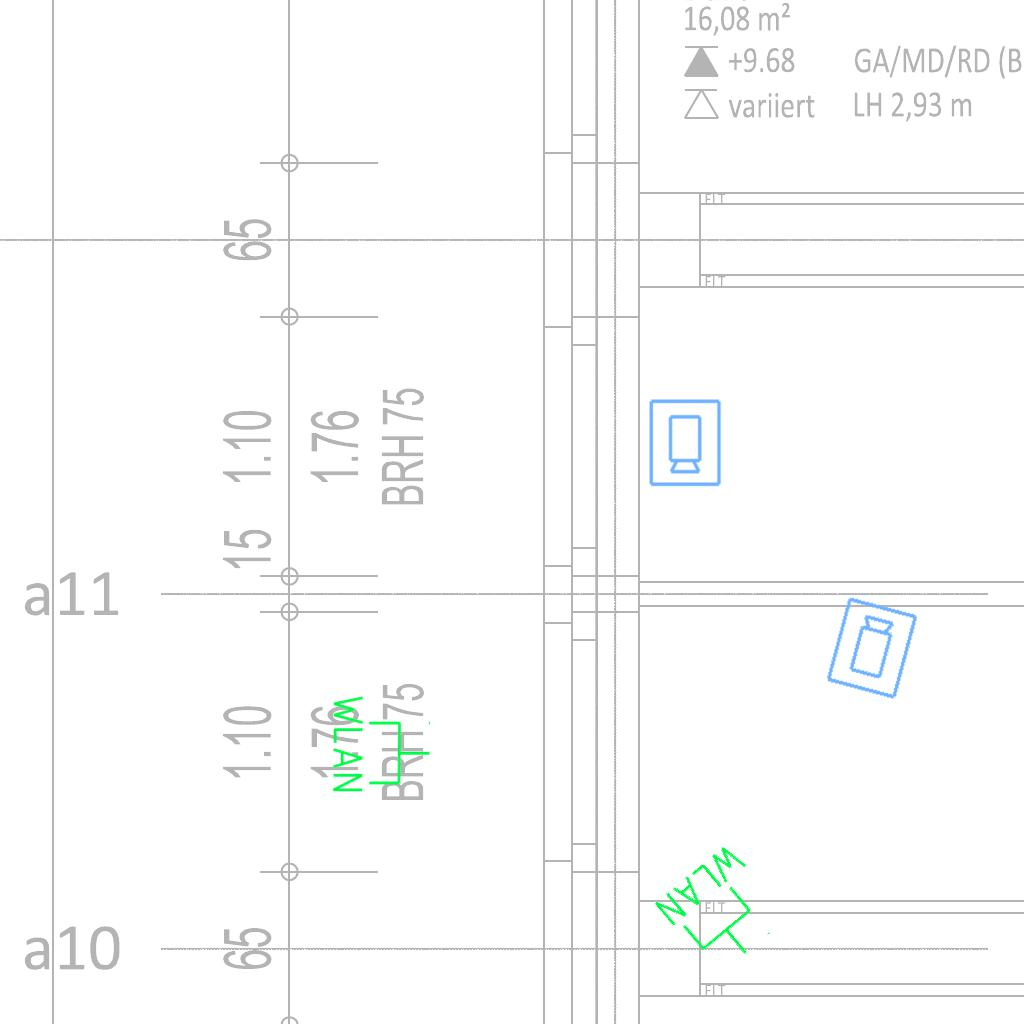KFO_Kamera_mit_Festobjektiv: (823, 594, 922, 703), (646, 397, 723, 488)
WLAN: (648, 835, 796, 984), (329, 691, 433, 796)
